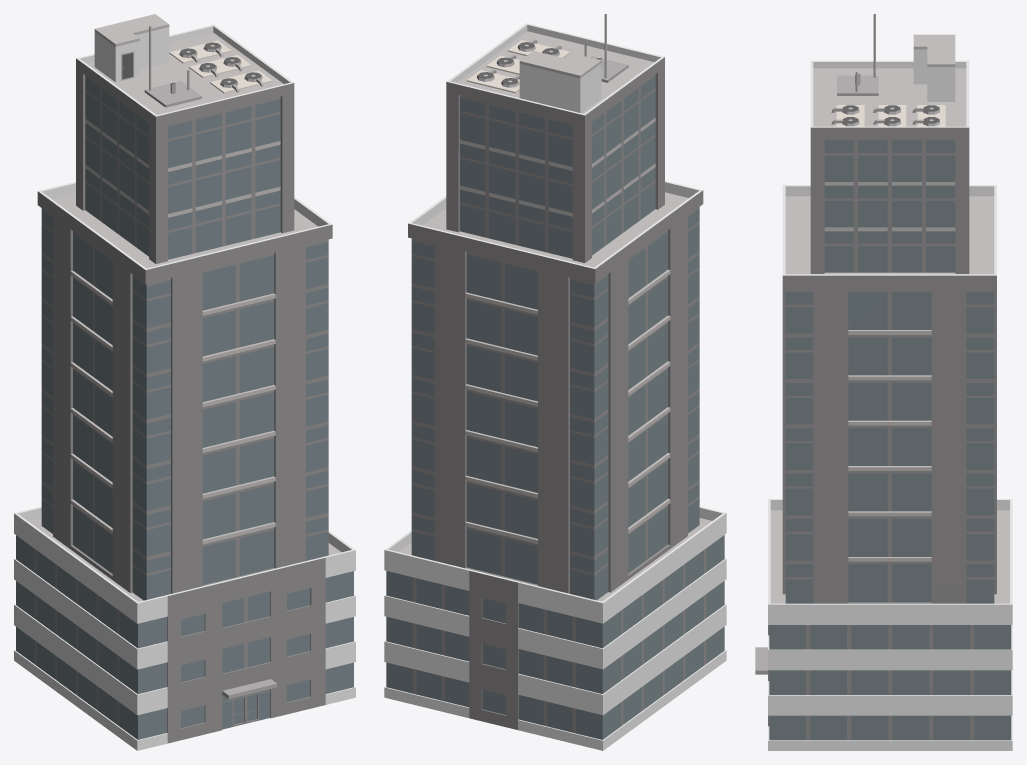
Rendered from building-5-col.glb.
3 renders of one model, left to right at view 1: azimuth 30°, elevation 25°; view 2: azimuth 150°, elevation 25°; view 3: azimuth 270°, elevation 25°, orthographic.
Visible parts, largest first — view 1: building_office_pyramid-col; view 2: building_office_pyramid-col; view 3: building_office_pyramid-col.
Part boxes in pixels (x1,y1,x2,y2): building_office_pyramid-col: (14, 14, 355, 750); building_office_pyramid-col: (384, 14, 726, 750); building_office_pyramid-col: (755, 14, 1012, 750).
Bounding box in the file's own units: 18 × 52.6 × 18.5.
